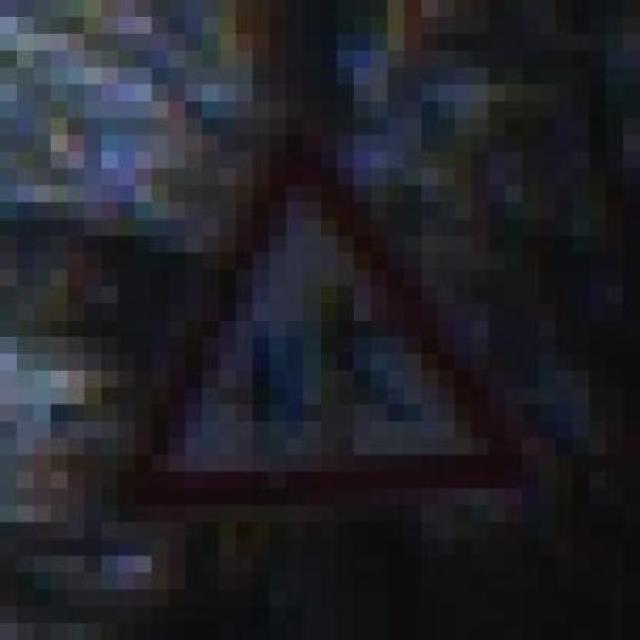Beware of children: (84, 101, 539, 505)
